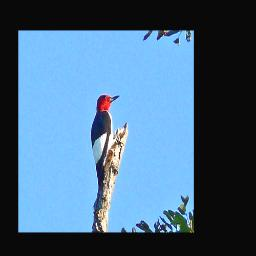Woodpecker: (84, 86, 124, 210)
